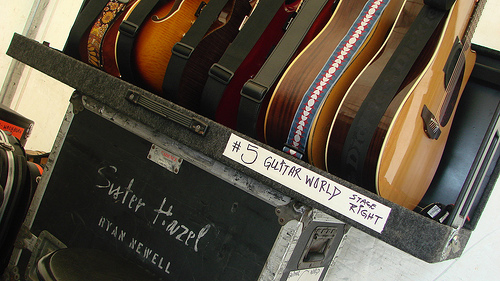guitar: (327, 1, 491, 214)
